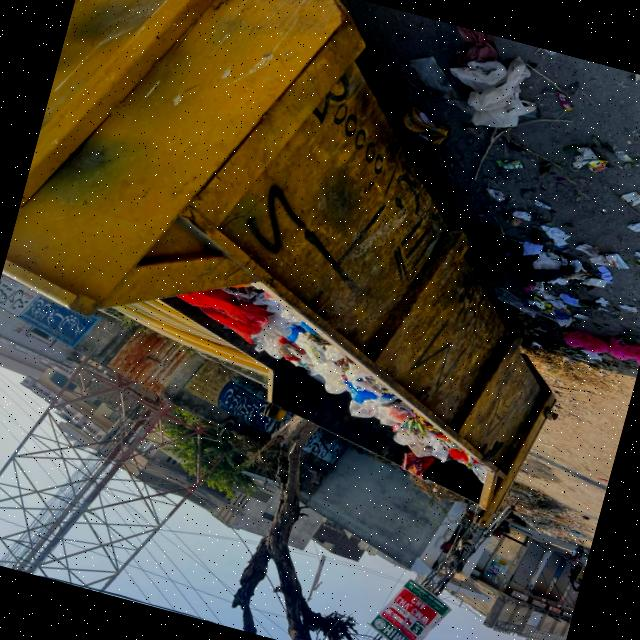garbage: (177, 288, 492, 480)
